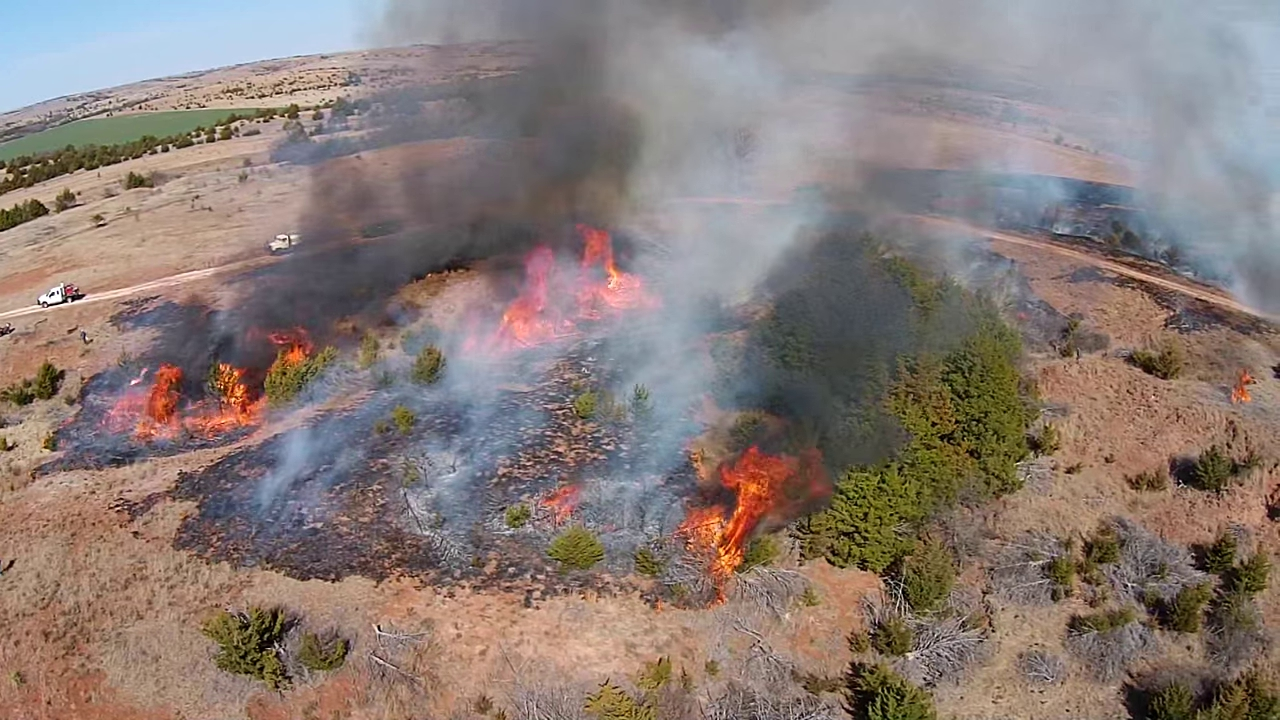forest_fire: (467, 223, 658, 349), (675, 445, 821, 599), (104, 362, 263, 441), (266, 328, 312, 373)
